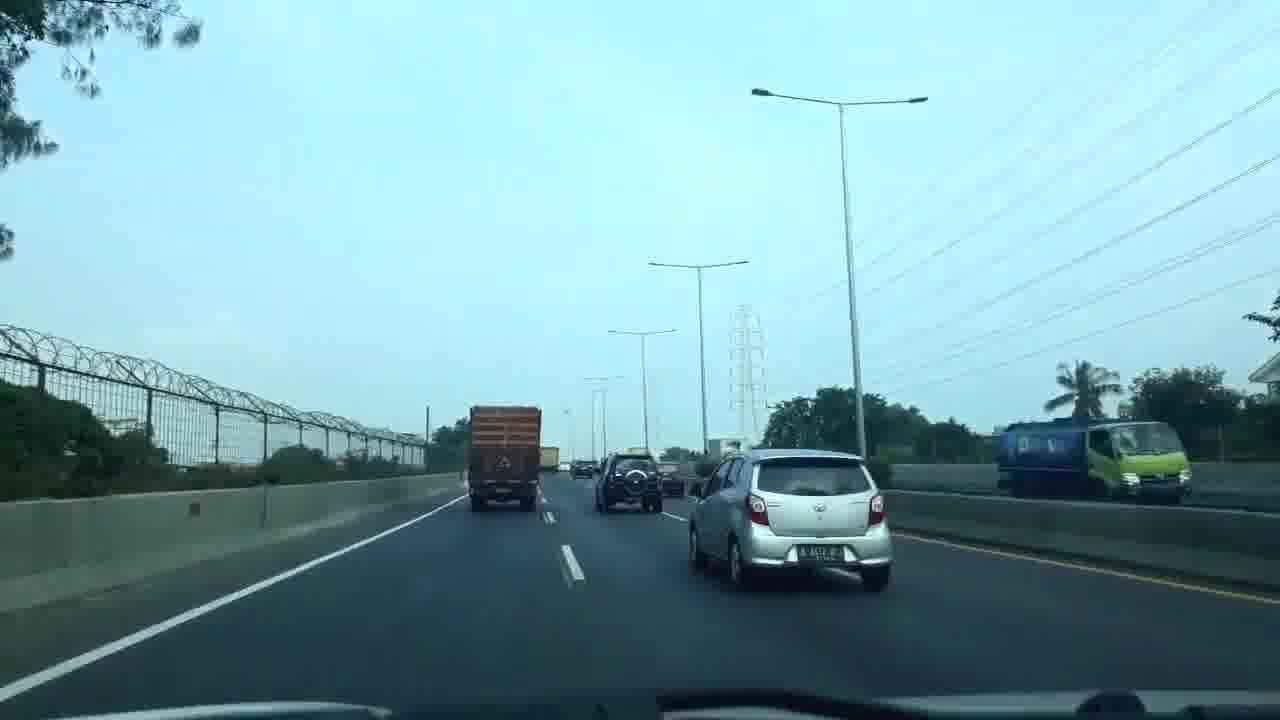plate_positive: (796, 544, 844, 563)
